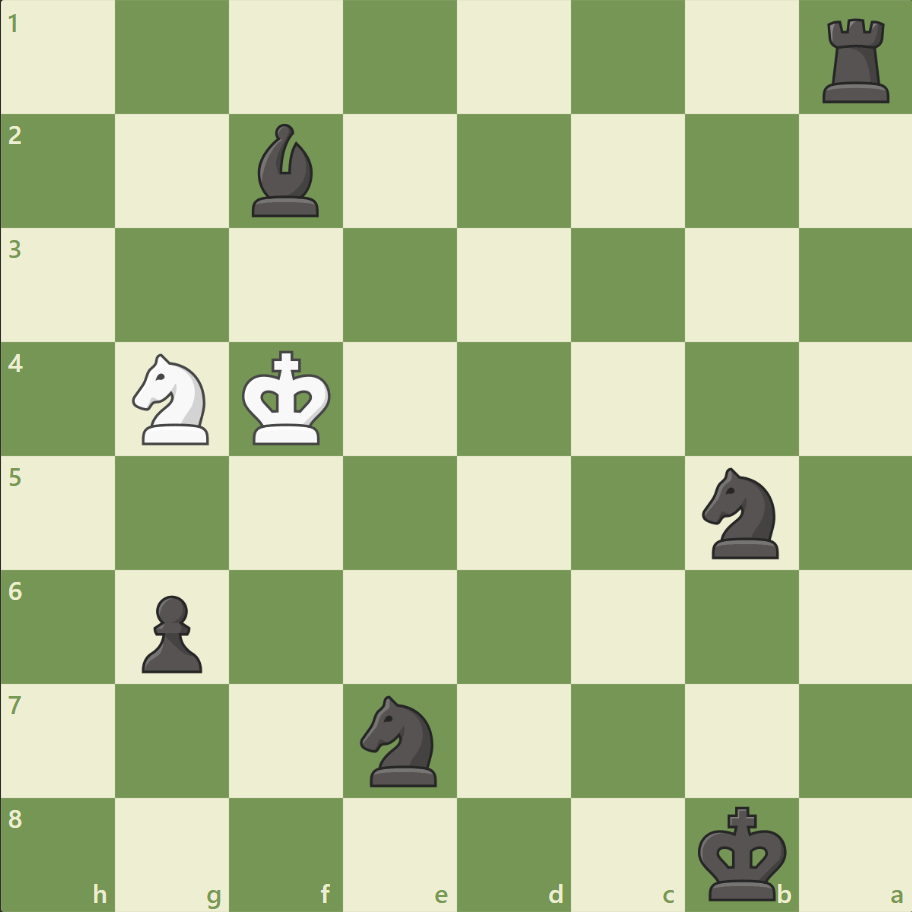K: (238, 344, 338, 452)
N: (124, 348, 222, 450)
b: (244, 120, 328, 222)
k: (692, 798, 792, 906)
n: (351, 688, 449, 791), (692, 461, 789, 564)
p: (133, 586, 208, 677)
r: (814, 12, 897, 109)
